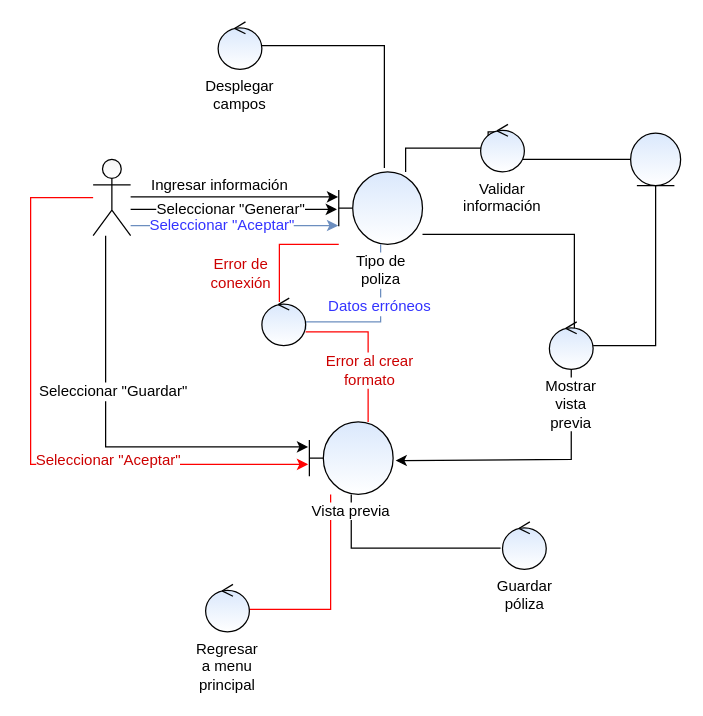
Image size: 703x716. Some labels were removed from this diagram. The shapes that lost their labels are listed below. From the top down, each one's box as (x1, y1, x2, y2) in pixels, then its label:
(629, 132, 681, 186): Póliza
(92, 158, 131, 236): Encargado de almacén
(261, 297, 306, 346): Mostrar mensaje error
